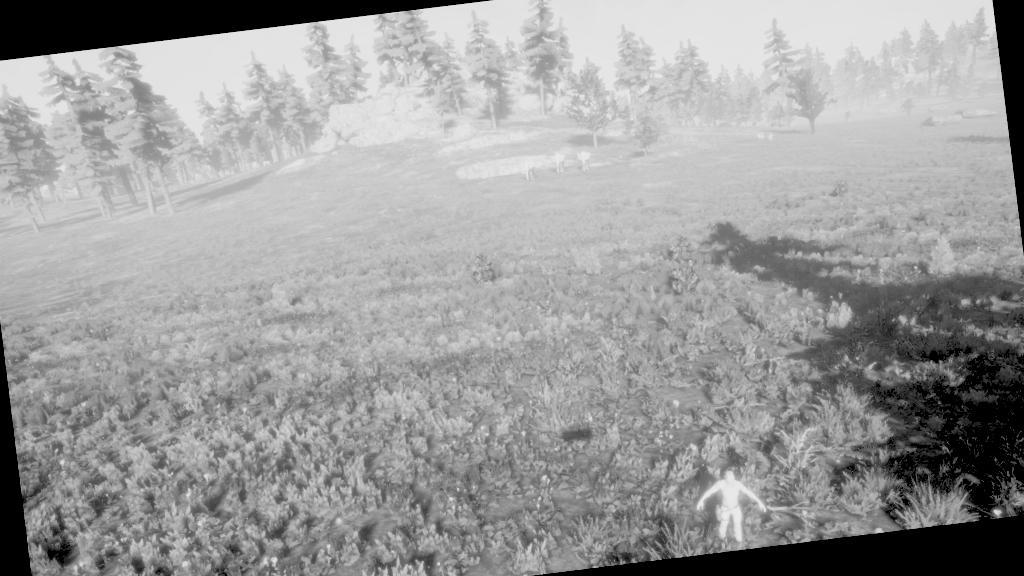elephant: (547, 144, 574, 182), (576, 146, 602, 177), (518, 159, 542, 188)
human: (673, 445, 792, 556)
